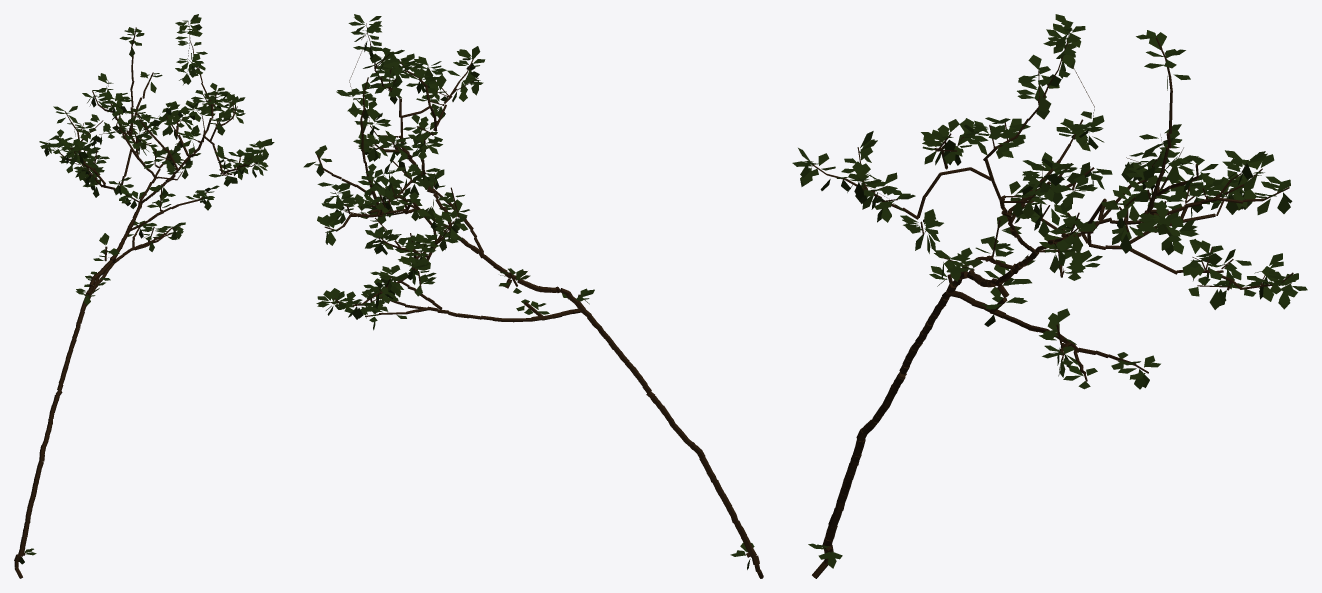
File: 2022_tree_260.obj
3 renders of one model, left to right at view 1: azimuth 30°, elevation 25°; view 2: azimuth 150°, elevation 25°; view 3: azimuth 270°, elevation 25°, orthographic. The views are drawn at different scales.
Parts seen in each view (by area): view 1: Leaves, TrunkAndBranches; view 2: Leaves, TrunkAndBranches; view 3: Leaves, TrunkAndBranches.
Boxes of the visible parts, x1,y1,x2,y2 form: Leaves: (19, 14, 274, 564); TrunkAndBranches: (14, 22, 263, 578); Leaves: (303, 14, 754, 569); TrunkAndBranches: (317, 23, 763, 578); Leaves: (792, 14, 1307, 568); TrunkAndBranches: (812, 28, 1293, 578).
Size of the model in its own units: 6.97 by 11.11 by 6.85.
